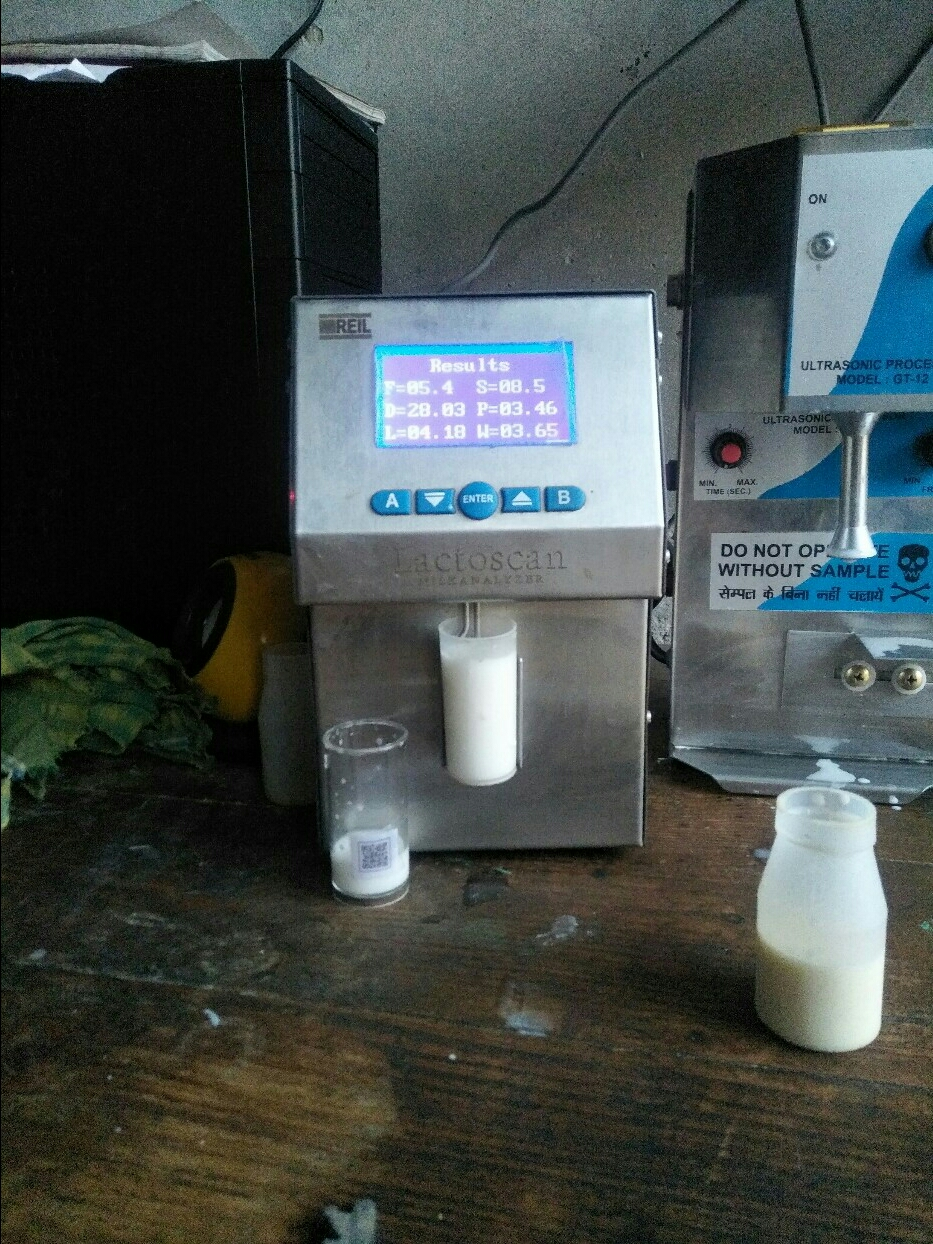lcd: (369, 344, 584, 454)
qr: (350, 837, 399, 880)
